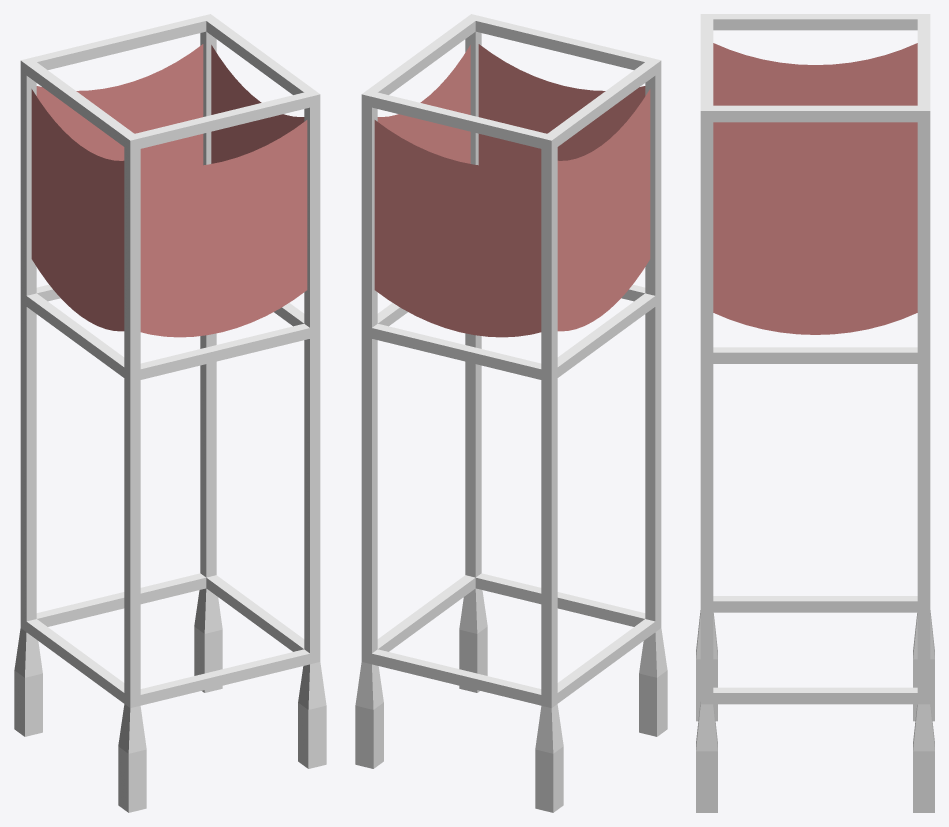
Rendered from bannerTowerRed.glb.
3 views of the same model, side by side, from view 1: azimuth 30°, elevation 25°; view 2: azimuth 150°, elevation 25°; view 3: azimuth 270°, elevation 25° (orthographic). The views are drawn at different scales.
Parts seen in each view (by area): view 1: bannerTowerRed(Clone); view 2: bannerTowerRed(Clone); view 3: bannerTowerRed(Clone).
Boxes of the visible parts, x1,y1,x2,y2 form: bannerTowerRed(Clone): (14,14,326,812); bannerTowerRed(Clone): (355,14,667,812); bannerTowerRed(Clone): (696,14,934,812).
Size of the model in its own units: 0.3852 by 1.25 by 0.3852.
